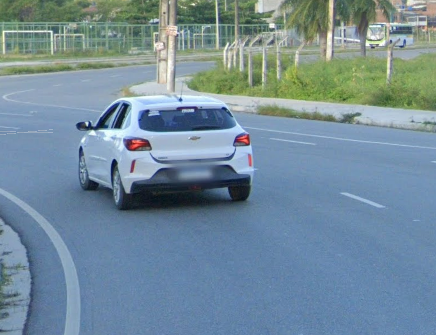car: (74, 80, 260, 215)
